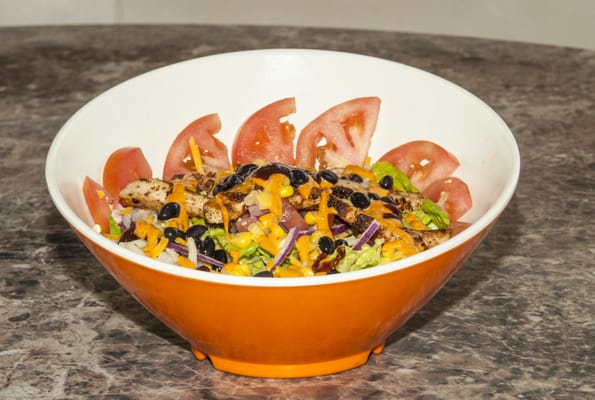sushi: (47, 49, 508, 381)
